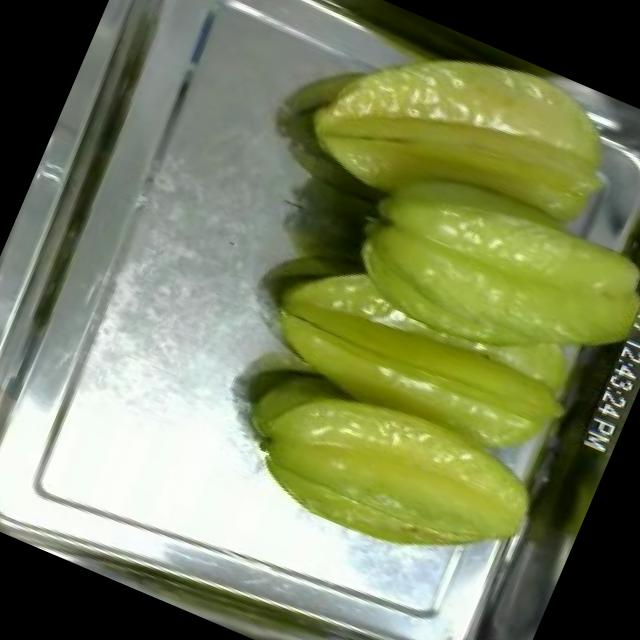fruit: (202, 0, 640, 493), (194, 246, 600, 612), (268, 0, 640, 293)
